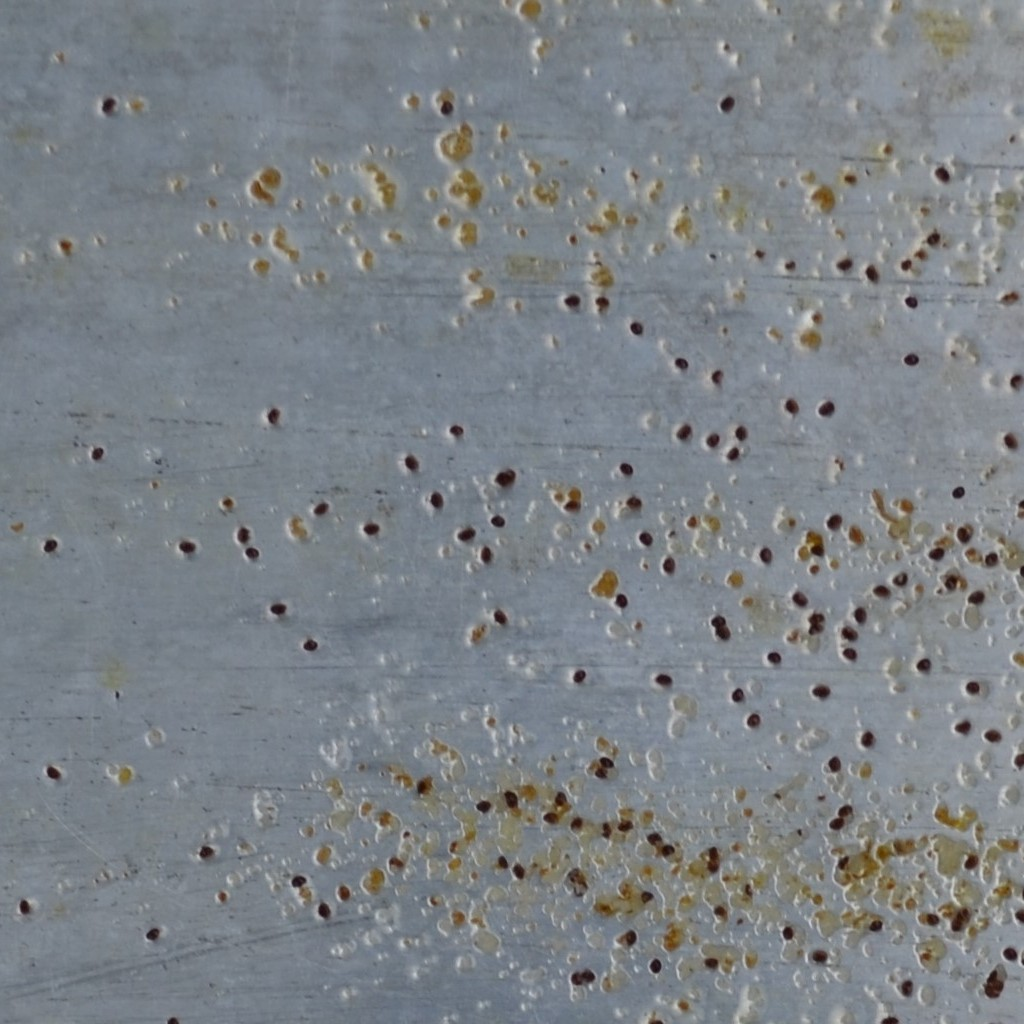varroa: (490, 465, 516, 489), (955, 521, 975, 547), (174, 535, 198, 556), (361, 516, 382, 540), (425, 487, 446, 511), (675, 420, 694, 446), (707, 843, 721, 878), (454, 521, 477, 542), (490, 603, 511, 625), (965, 587, 987, 608), (559, 497, 582, 517), (817, 396, 836, 420), (311, 498, 329, 523), (45, 760, 65, 782), (142, 923, 164, 943), (982, 725, 1005, 744), (963, 847, 979, 874), (291, 867, 309, 891), (316, 898, 335, 920), (730, 681, 746, 707), (899, 973, 915, 999), (625, 491, 643, 514), (1002, 430, 1019, 454), (925, 224, 942, 248), (733, 419, 750, 443), (757, 543, 774, 567), (647, 951, 662, 978), (446, 420, 466, 440), (235, 522, 254, 543), (901, 345, 920, 366), (611, 588, 629, 610), (826, 511, 844, 533), (618, 457, 637, 477), (859, 728, 878, 748), (653, 668, 672, 687), (563, 293, 581, 313), (553, 788, 571, 808), (478, 544, 495, 565), (301, 635, 318, 656), (628, 318, 645, 339), (1000, 944, 1021, 961), (89, 443, 105, 465), (705, 428, 721, 450), (852, 604, 868, 626), (869, 915, 885, 937), (158, 1009, 183, 1023), (927, 544, 945, 563), (724, 445, 742, 464), (637, 527, 655, 546), (660, 555, 678, 574), (890, 569, 909, 587), (842, 646, 860, 665), (703, 953, 722, 971), (541, 809, 560, 827), (475, 798, 493, 817), (934, 164, 951, 184), (915, 656, 932, 676), (835, 257, 855, 274), (782, 396, 799, 416), (790, 590, 810, 607), (811, 683, 831, 700), (570, 666, 587, 686), (836, 801, 856, 818), (718, 92, 734, 113), (1007, 370, 1023, 391), (953, 718, 974, 734), (943, 573, 959, 594), (709, 367, 725, 388), (404, 453, 419, 475), (337, 880, 352, 902), (745, 711, 762, 730), (644, 827, 663, 844), (42, 535, 58, 555), (197, 843, 217, 859), (983, 548, 999, 568), (765, 648, 785, 664), (828, 754, 843, 775), (1012, 748, 1023, 776), (439, 98, 455, 117), (490, 511, 506, 530), (674, 354, 690, 373), (873, 581, 892, 597), (807, 609, 826, 625), (904, 292, 919, 312), (503, 787, 518, 807), (865, 262, 879, 283), (839, 627, 860, 641), (270, 600, 288, 616), (811, 948, 829, 964), (963, 679, 982, 694), (709, 613, 729, 627), (714, 626, 734, 640), (513, 863, 527, 883), (266, 406, 282, 423), (594, 294, 612, 309), (583, 965, 596, 985), (951, 484, 967, 500), (811, 541, 827, 557), (660, 843, 676, 859), (808, 621, 826, 635), (780, 924, 794, 942), (497, 852, 510, 871), (244, 545, 260, 560), (598, 754, 614, 769), (569, 969, 584, 985), (18, 897, 31, 915), (879, 1012, 899, 1023), (829, 817, 845, 830), (900, 257, 912, 273), (1015, 908, 1023, 926), (1018, 560, 1023, 581)
